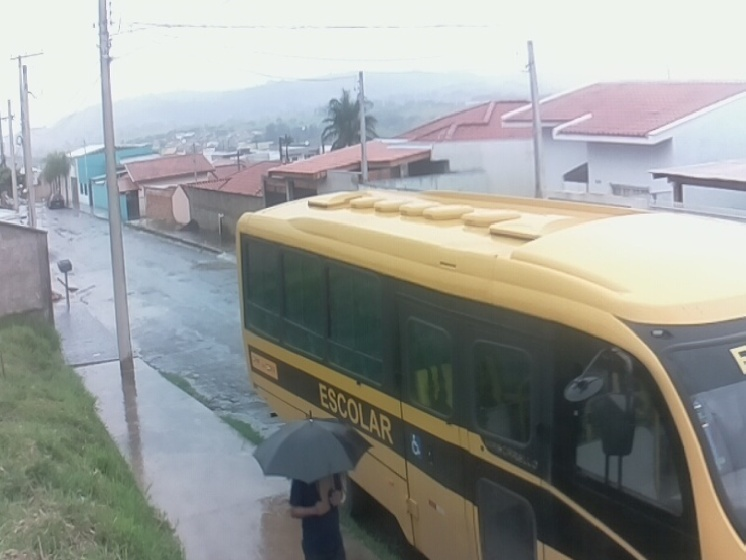person: (288, 468, 352, 560)
